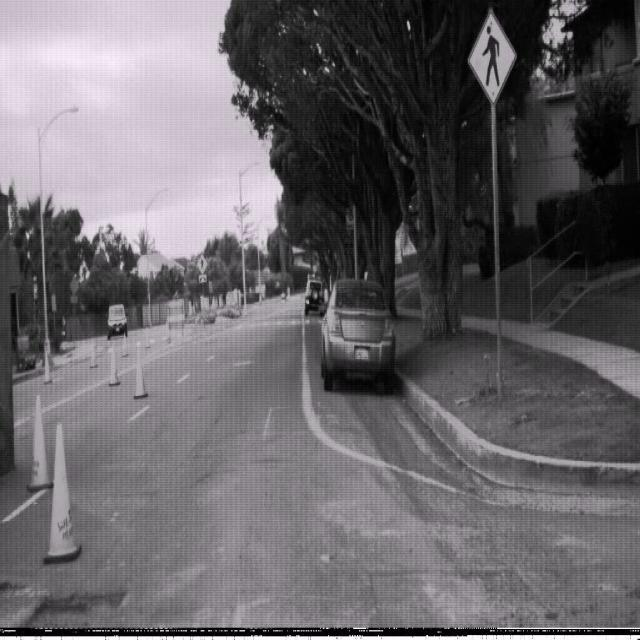pedestrianCrossing: (467, 7, 517, 107), (196, 253, 208, 277)
